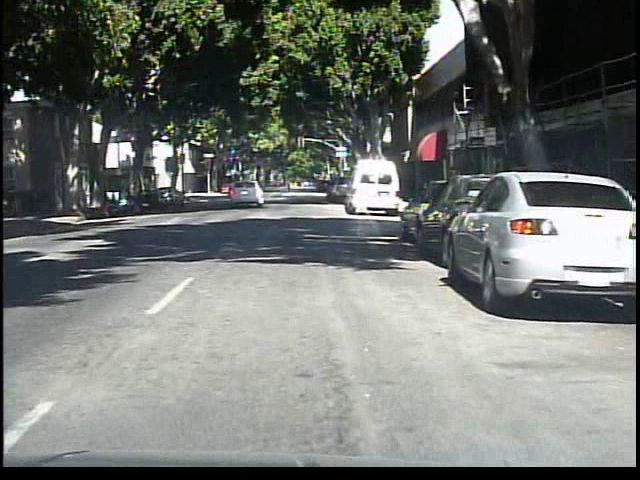person: (276, 168, 296, 201)
